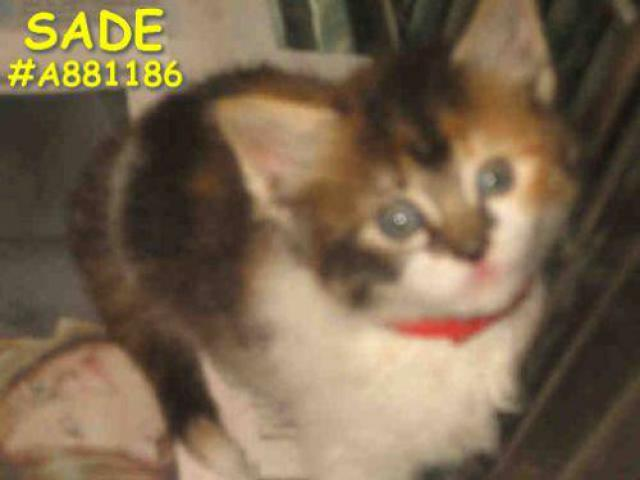cat: (100, 37, 575, 445)
